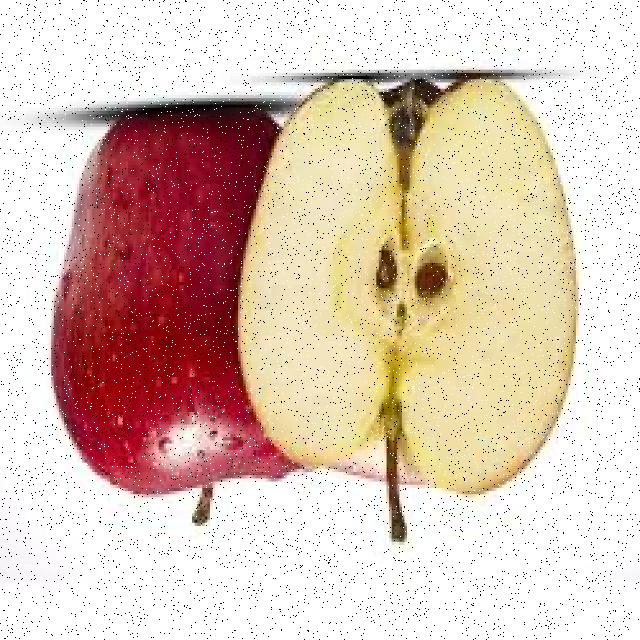Apple: (233, 79, 578, 494), (51, 108, 289, 495)
